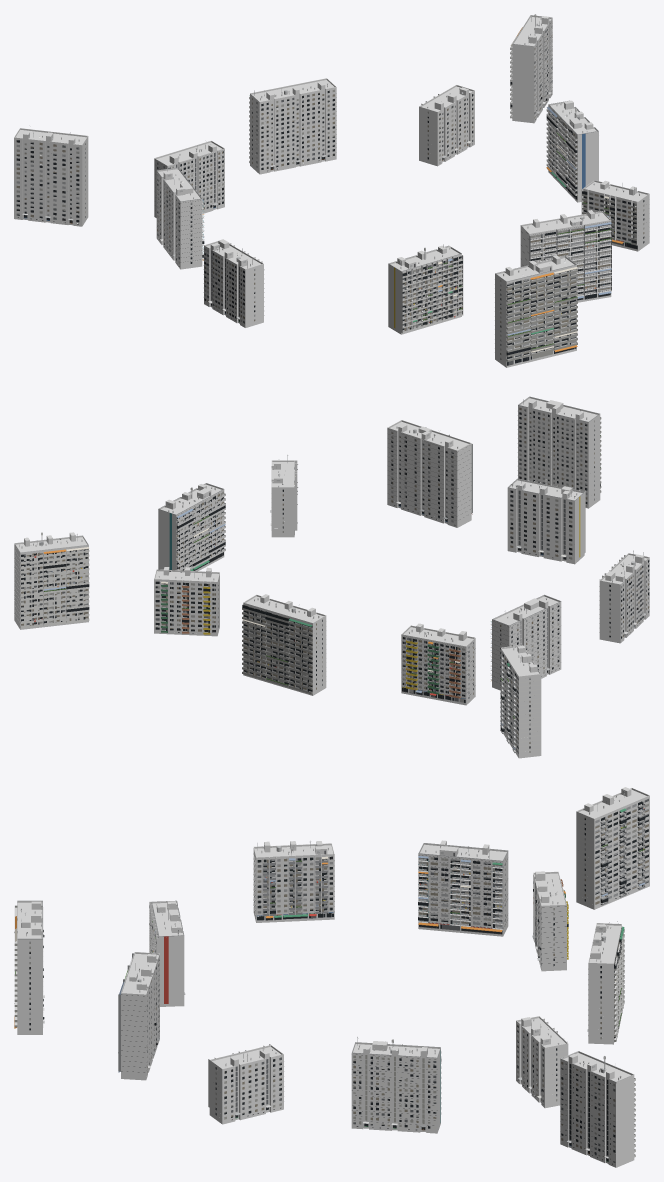
Rendered from far_0.glb.
3 renders of one model, top to bottom at view 1: azimuth 30°, elevation 25°; view 2: azimuth 150°, elevation 25°; view 3: azimuth 270°, elevation 25°, orthographic. The views are drawn at different scales.
Parts seen in each view (by area): view 1: far_0; view 2: far_0; view 3: far_0.
Part boxes in pixels (<box>): far_0: <box>14,14,649,367</box>; far_0: <box>14,396,649,758</box>; far_0: <box>14,787,649,1167</box>.
Size of the model in its own units: 348 by 57.49 by 323.
